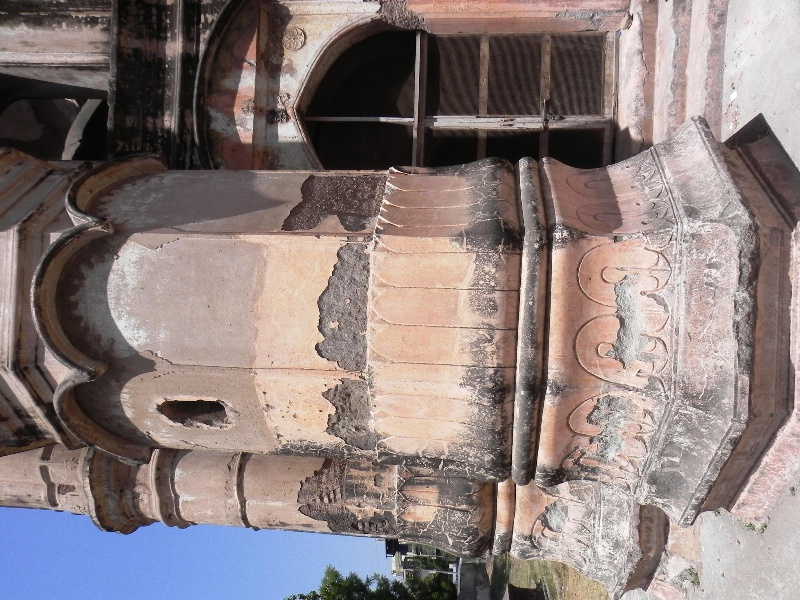Spalling: (310, 241, 378, 369), (293, 455, 397, 537), (260, 172, 392, 230), (314, 377, 389, 452), (608, 272, 641, 374)
